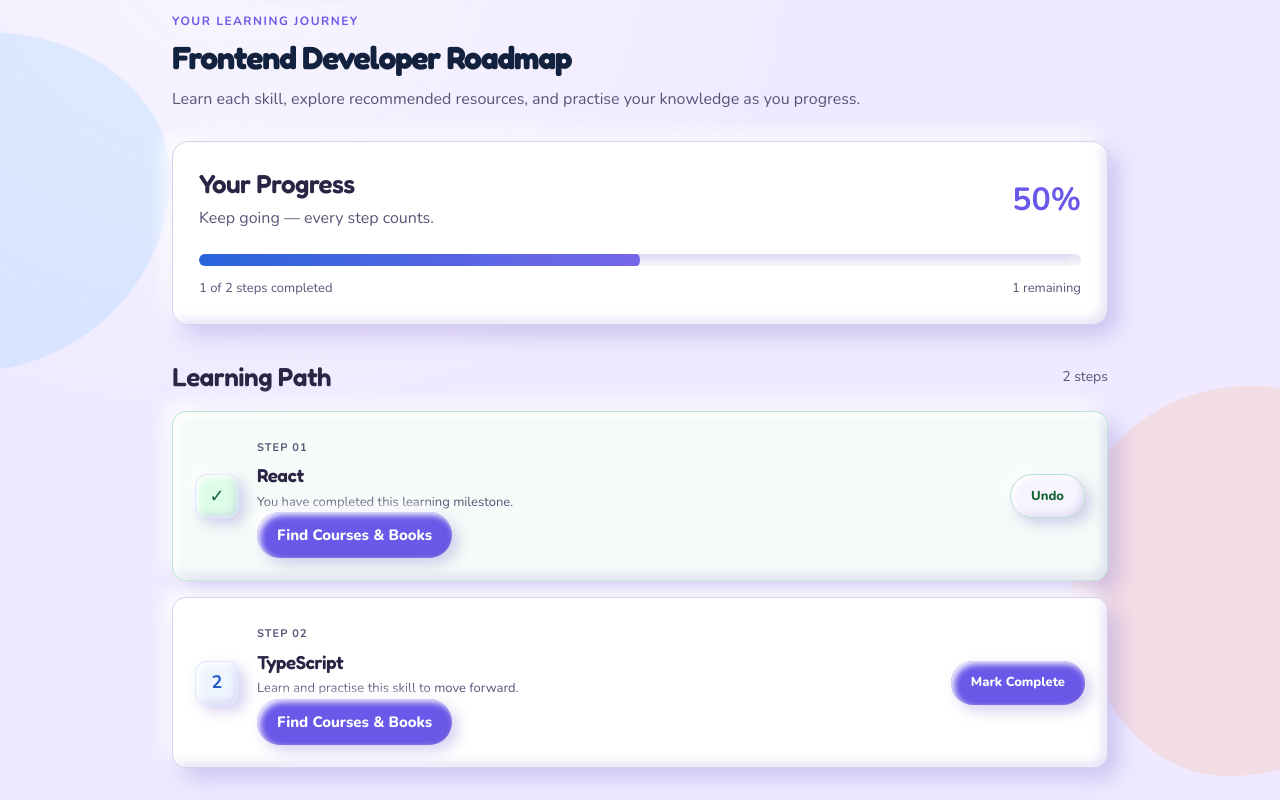
Roadmap conditional rendering and resource errors › loads saved progress, toggles a milestone, and persists the updated percentage
This screenshot has width=1280, height=800.
(page scrolled)
Expected: the text "1 of 2 steps completed" is shown, [199,278,332,298]
Step 1. Click the button "Mark Complete" → (1018, 683), box [951,661,1085,705]
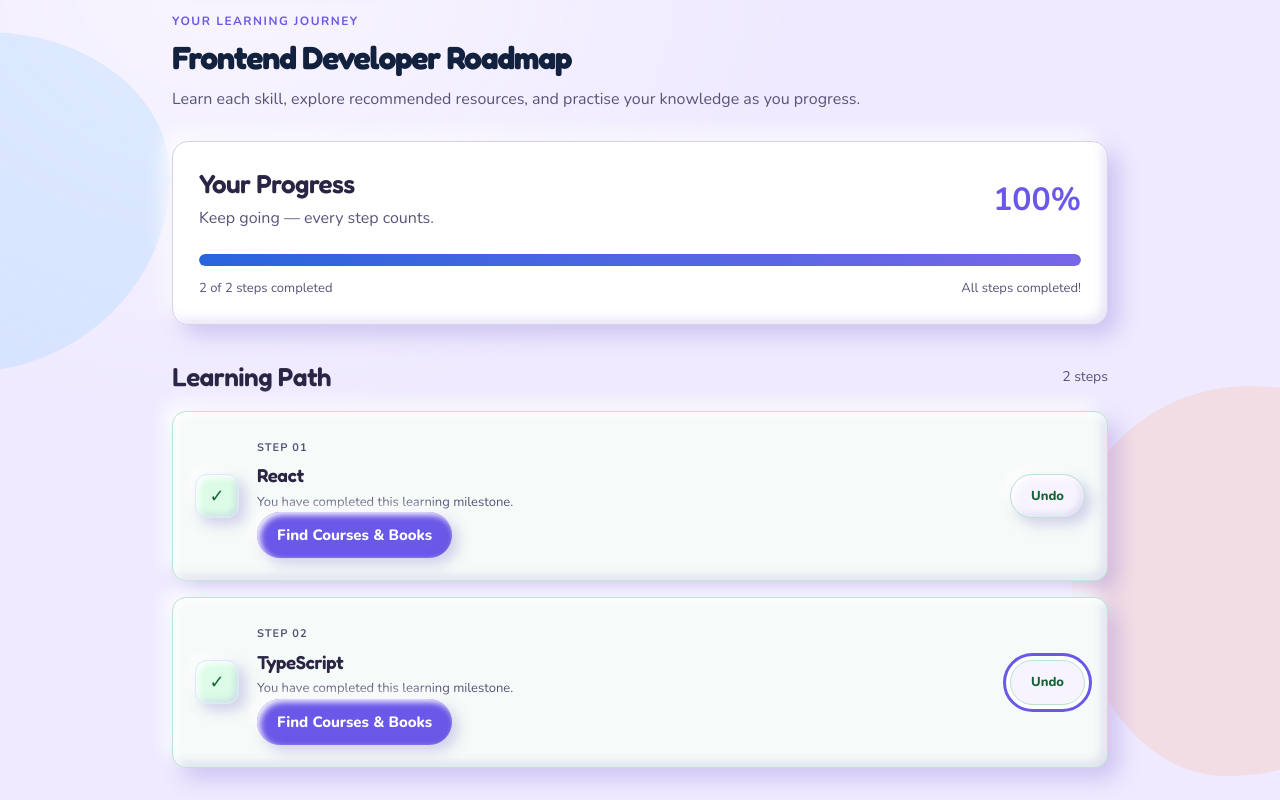
Expected: the text "All steps completed!" is shown, [961,278,1081,298]
